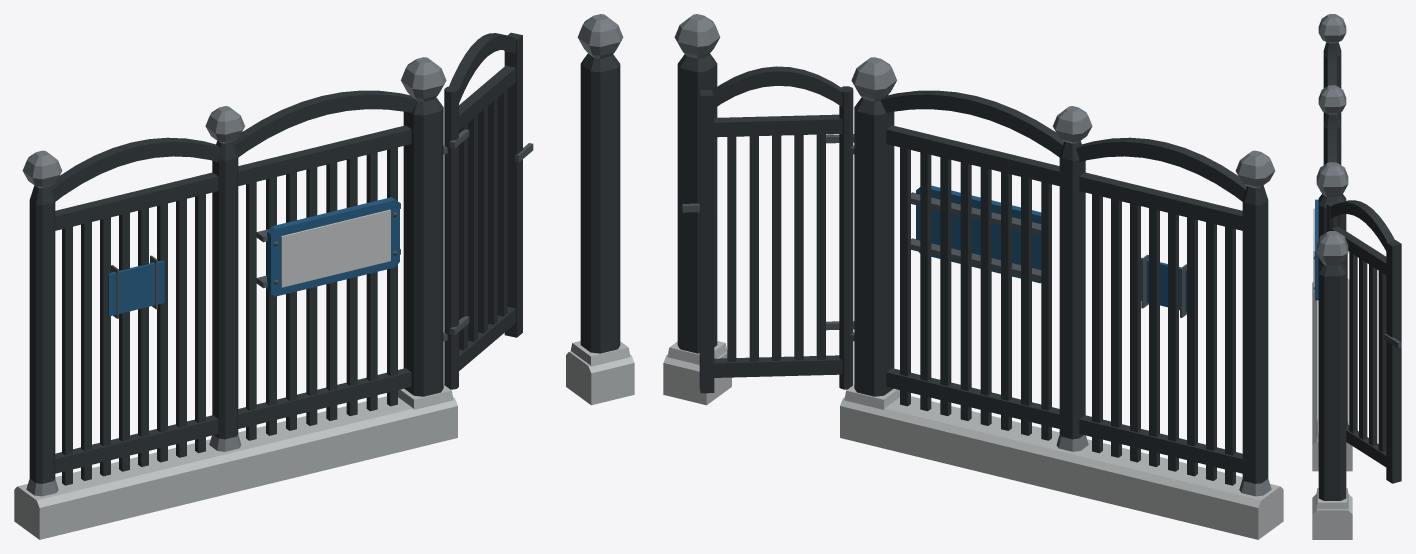
The model's file is railing-and-gate-run-5c8137.glb.
3 views of the same model, side by side, from view 1: azimuth 30°, elevation 25°; view 2: azimuth 150°, elevation 25°; view 3: azimuth 270°, elevation 25° (orthographic). The views are drawn at different scales.
Visible parts, largest first — view 1: railing, leaf, sign-board; view 2: railing, leaf, sign-board; view 3: railing, leaf, sign-board.
Boxes of the visible parts, x1=… form: railing: x1=14, y1=14, x2=634, y2=539; leaf: x1=444, y1=32, x2=533, y2=389; sign-board: x1=256, y1=197, x2=400, y2=296; railing: x1=663, y1=14, x2=1283, y2=539; leaf: x1=682, y1=66, x2=854, y2=393; sign-board: x1=910, y1=185, x2=1041, y2=283; railing: x1=1312, y1=14, x2=1352, y2=539; leaf: x1=1326, y1=200, x2=1401, y2=483; sign-board: x1=1313, y1=199, x2=1318, y2=300.
Bounding box in the file's own units: 3 × 1.8 × 0.488.
